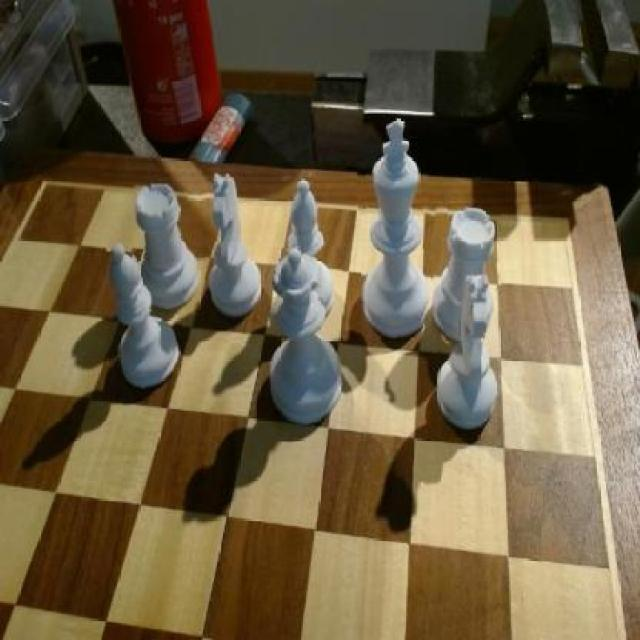black-rook: (108, 235, 183, 390), (286, 177, 342, 319)
white-bishop: (358, 123, 432, 339)
white-king: (437, 274, 501, 438), (206, 172, 264, 313)
white-pawn: (264, 248, 344, 422)
white-queen: (432, 208, 500, 343), (132, 185, 202, 312)
